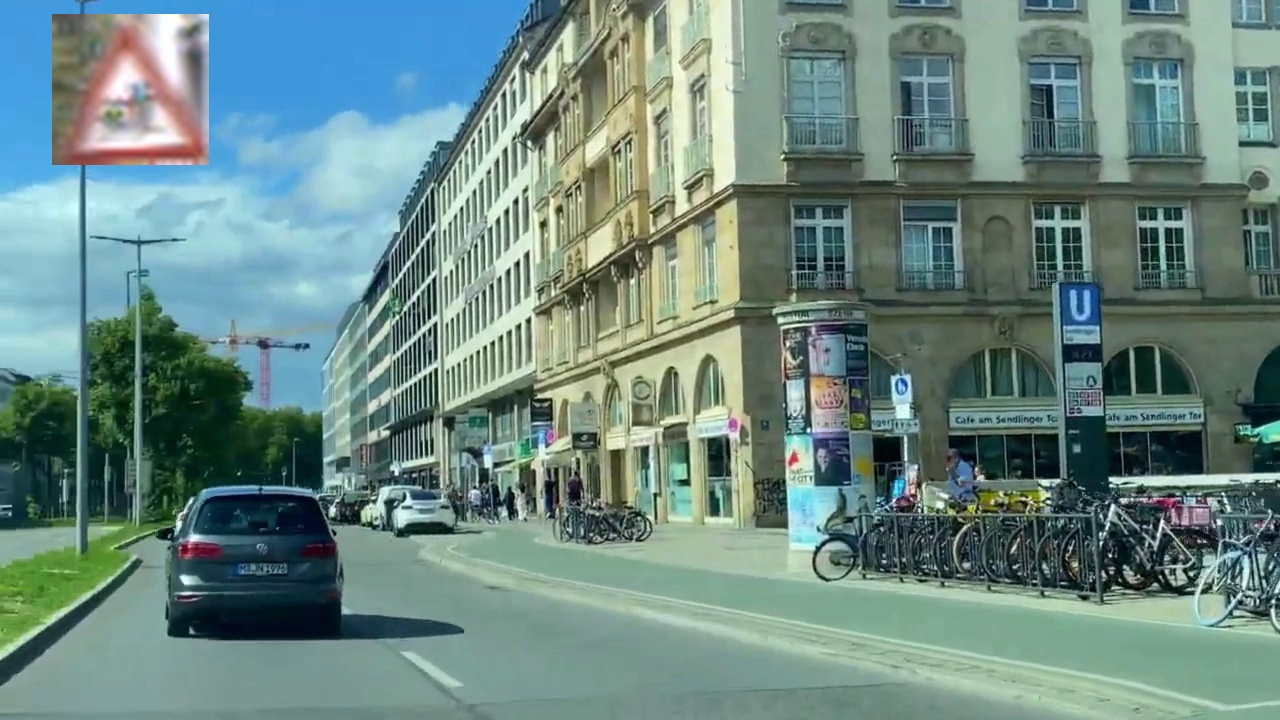Children: (52, 14, 209, 165)
